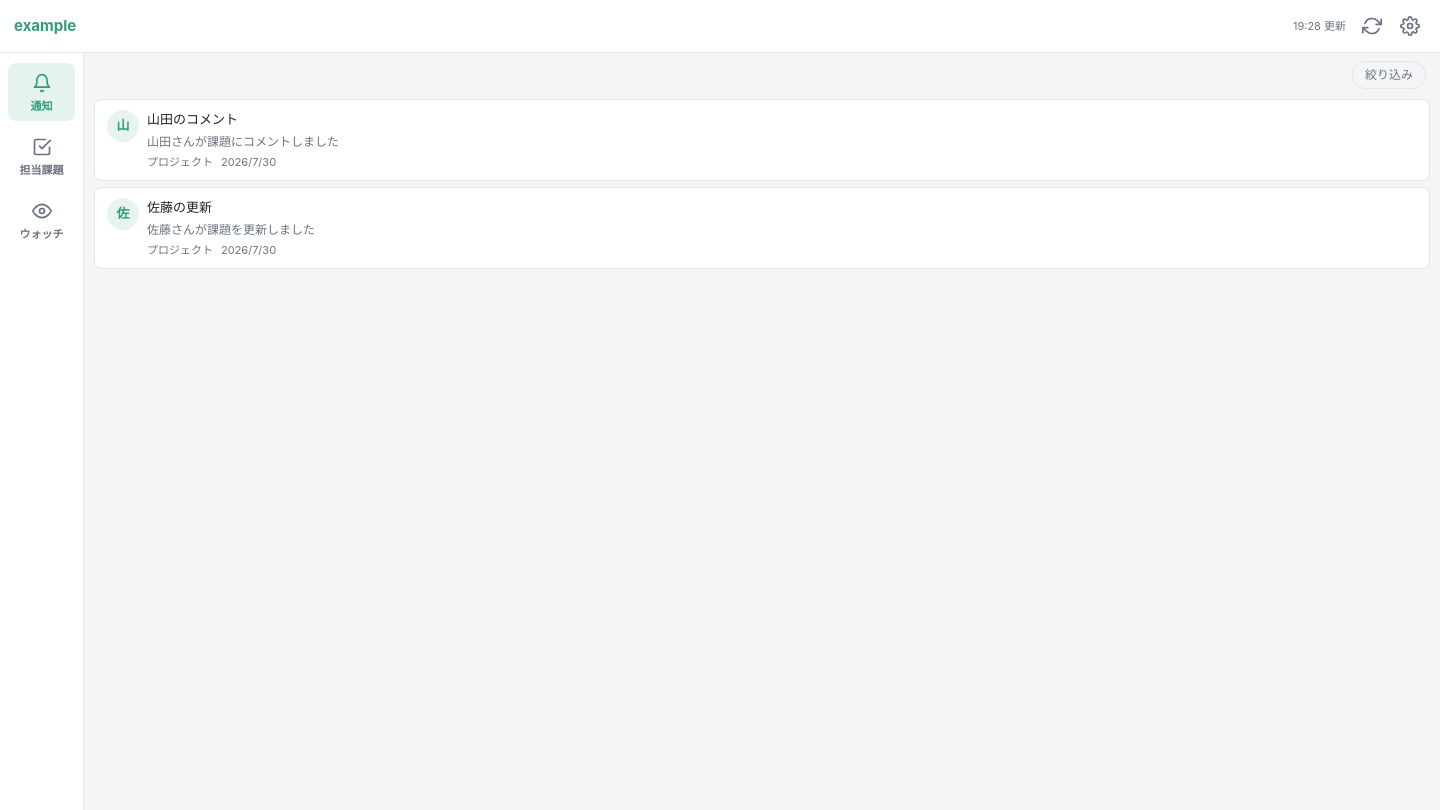
Test: App の通知の絞り込み › 送信者で絞ると他の送信者の通知が消える
Click the button "絞り込み" at [1389, 75], box 1352,61 -> 1426,89
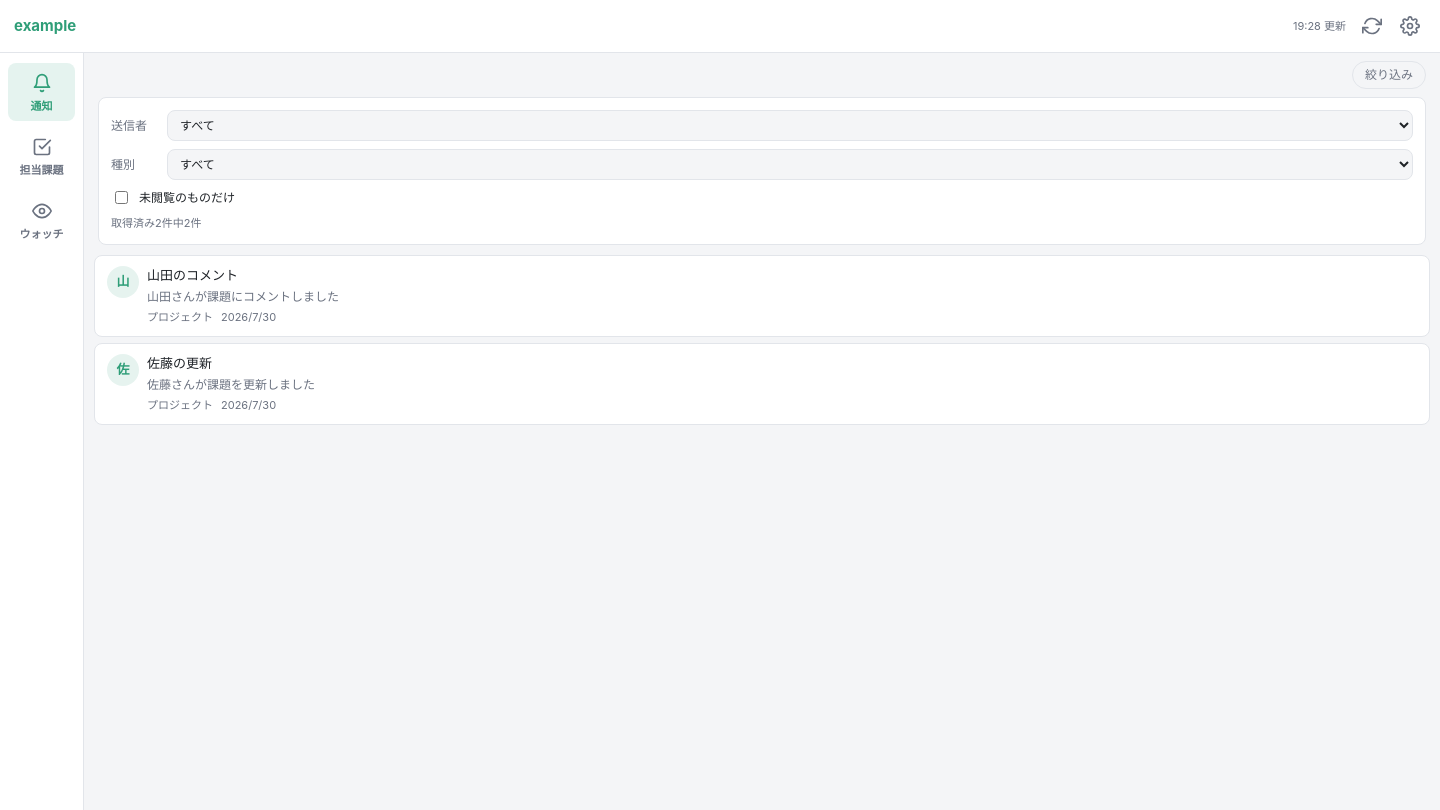
Select "山田" in the dropdown labelled "送信者" at [790, 126], box 167,110 -> 1413,141
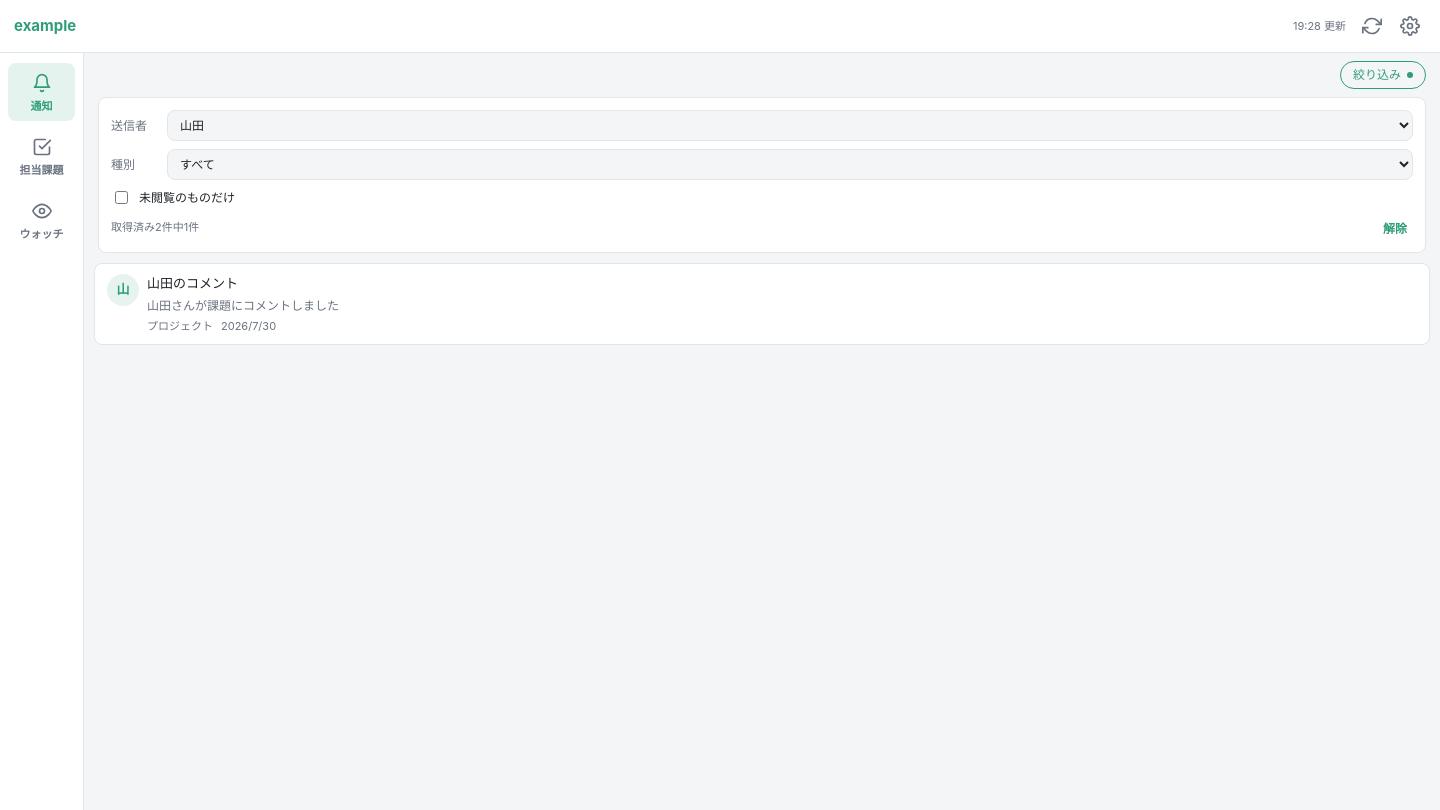
expect the text "山田のコメント" is shown: met, box 147,275 -> 238,291
expect the button "佐藤の更新" is gone: met
